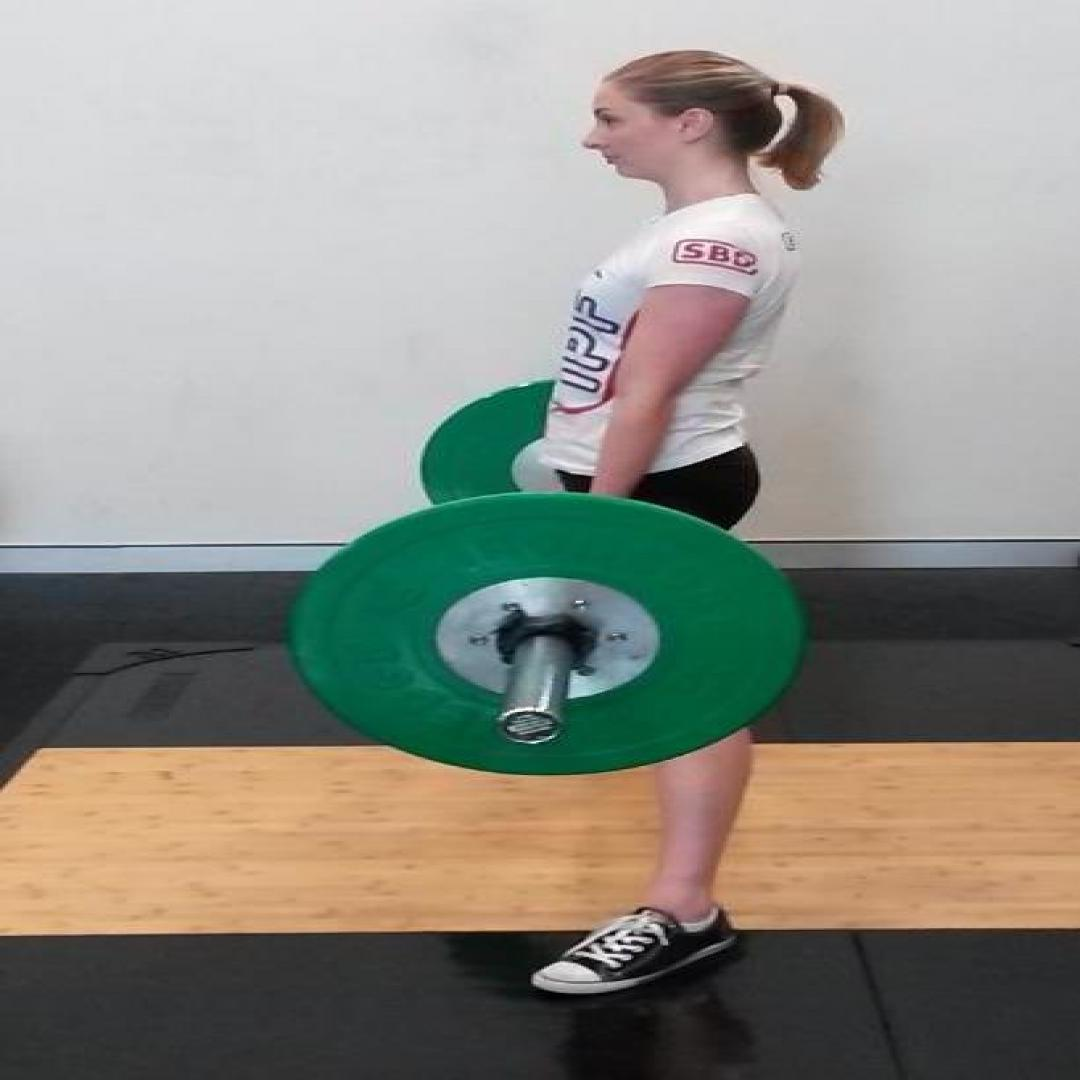Bar: (496, 708, 562, 745)
Barbell: (293, 494, 798, 774)
